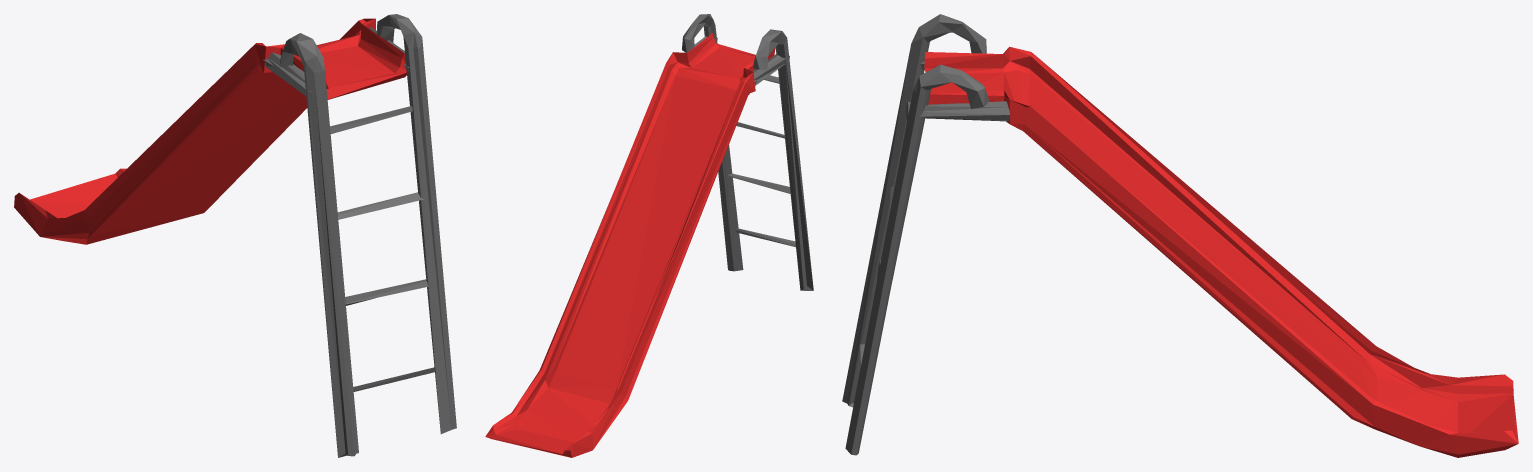
File: stm_env_Slide.fbx
3 views of the same model, side by side, from view 1: azimuth 30°, elevation 25°; view 2: azimuth 150°, elevation 25°; view 3: azimuth 270°, elevation 25° (orthographic). The views are drawn at different scales.
Parts seen in each view (by area): view 1: Cube; view 2: Cube; view 3: Cube.
Boxes of the visible parts, <box> form: Cube: <box>14,14,456,457</box>; Cube: <box>485,14,813,457</box>; Cube: <box>842,14,1518,457</box>.
Bounding box in the file's own units: 301 × 941 × 1482.
